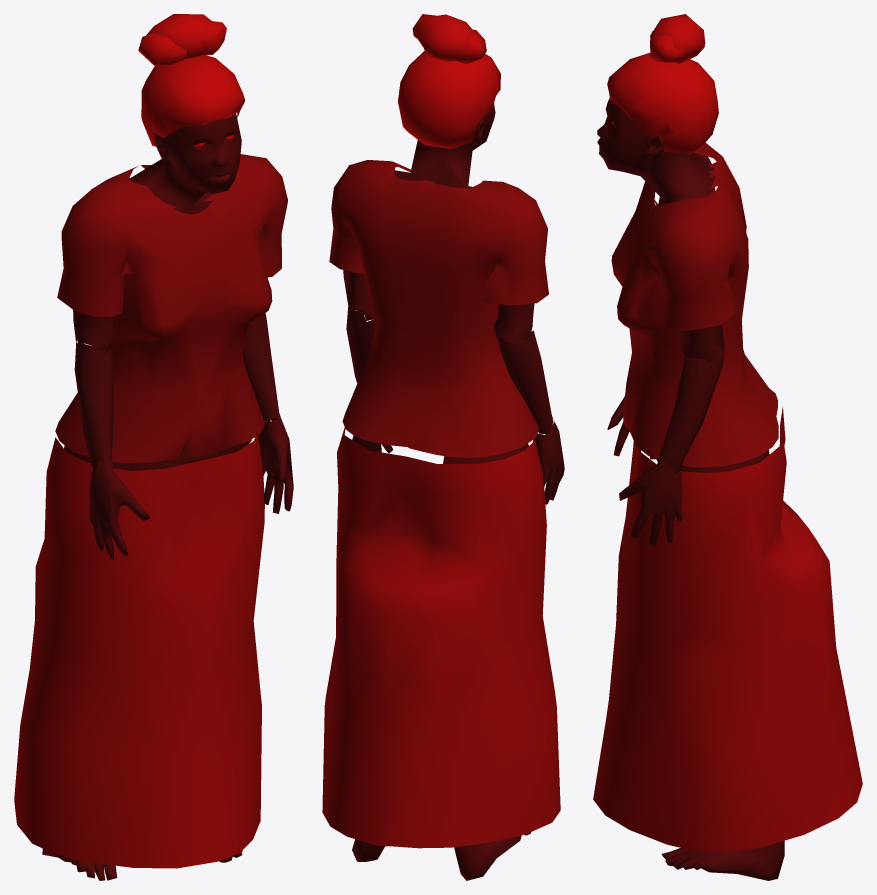
File: crowd_womanStand.glb
3 renders of one model, left to right at view 1: azimuth 30°, elevation 25°; view 2: azimuth 150°, elevation 25°; view 3: azimuth 270°, elevation 25°, orthographic. The views are drawn at different scales.
Parts seen in each view (by area): view 1: womanStand; view 2: womanStand; view 3: womanStand.
Boxes of the visible parts, x1,y1,x2,y2 form: womanStand: (14, 14, 293, 880); womanStand: (322, 14, 564, 880); womanStand: (593, 14, 862, 880).
Size of the model in its own units: 0.4923 by 1.71 by 0.4967.
